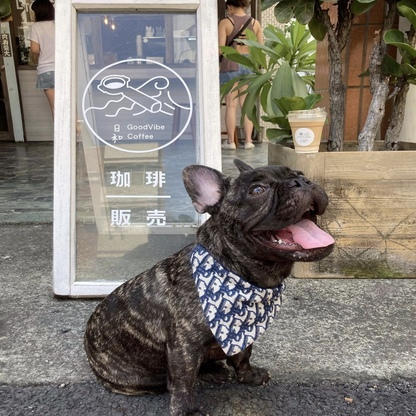bulldog: (81, 156, 339, 416)
